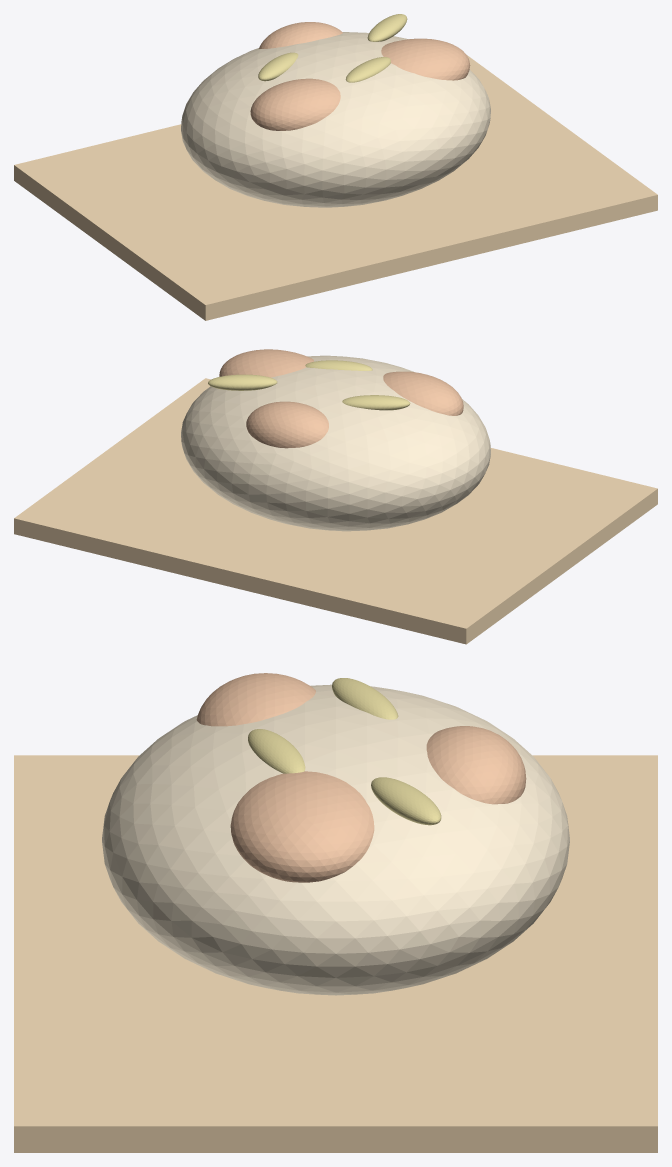
The model's file is item_bread.glb.
3 views of the same model, one above another, from view 1: azimuth 30°, elevation 25°; view 2: azimuth 150°, elevation 25°; view 3: azimuth 270°, elevation 25° (orthographic). The views are drawn at different scales.
Visible parts, largest first — view 1: Board, Loaf, Blush_0, Blush_1, Blush_2, Score_2, Score_1, Score_0; view 2: Board, Loaf, Blush_2, Blush_0, Blush_1, Score_2, Score_0, Score_1; view 3: Board, Loaf, Blush_1, Blush_2, Blush_0, Score_2, Score_1, Score_0.
Boxes of the visible parts, x1=… form: Board: x1=14, y1=55, x2=657, y2=320; Loaf: x1=181, y1=32, x2=490, y2=207; Blush_0: x1=250, y1=78, x2=340, y2=130; Blush_1: x1=381, y1=38, x2=470, y2=80; Blush_2: x1=259, y1=22, x2=342, y2=48; Score_2: x1=367, y1=14, x2=407, y2=41; Score_1: x1=345, y1=57, x2=390, y2=82; Score_0: x1=258, y1=52, x2=298, y2=81; Board: x1=14, y1=378, x2=657, y2=644; Loaf: x1=181, y1=355, x2=490, y2=531; Blush_2: x1=246, y1=401, x2=328, y2=448; Blush_0: x1=383, y1=371, x2=463, y2=415; Blush_1: x1=219, y1=349, x2=313, y2=377; Score_2: x1=208, y1=374, x2=277, y2=390; Score_0: x1=342, y1=395, x2=410, y2=410; Score_1: x1=305, y1=360, x2=372, y2=370; Board: x1=14, y1=755, x2=657, y2=1152; Loaf: x1=102, y1=684, x2=569, y2=995; Blush_1: x1=230, y1=771, x2=374, y2=882; Blush_2: x1=426, y1=726, x2=526, y2=804; Blush_0: x1=196, y1=673, x2=315, y2=726; Score_2: x1=371, y1=777, x2=441, y2=825; Score_1: x1=248, y1=729, x2=305, y2=773; Score_0: x1=332, y1=678, x2=398, y2=719.
Bounding box in the file's own units: 1.5 × 0.445 × 1.1.
